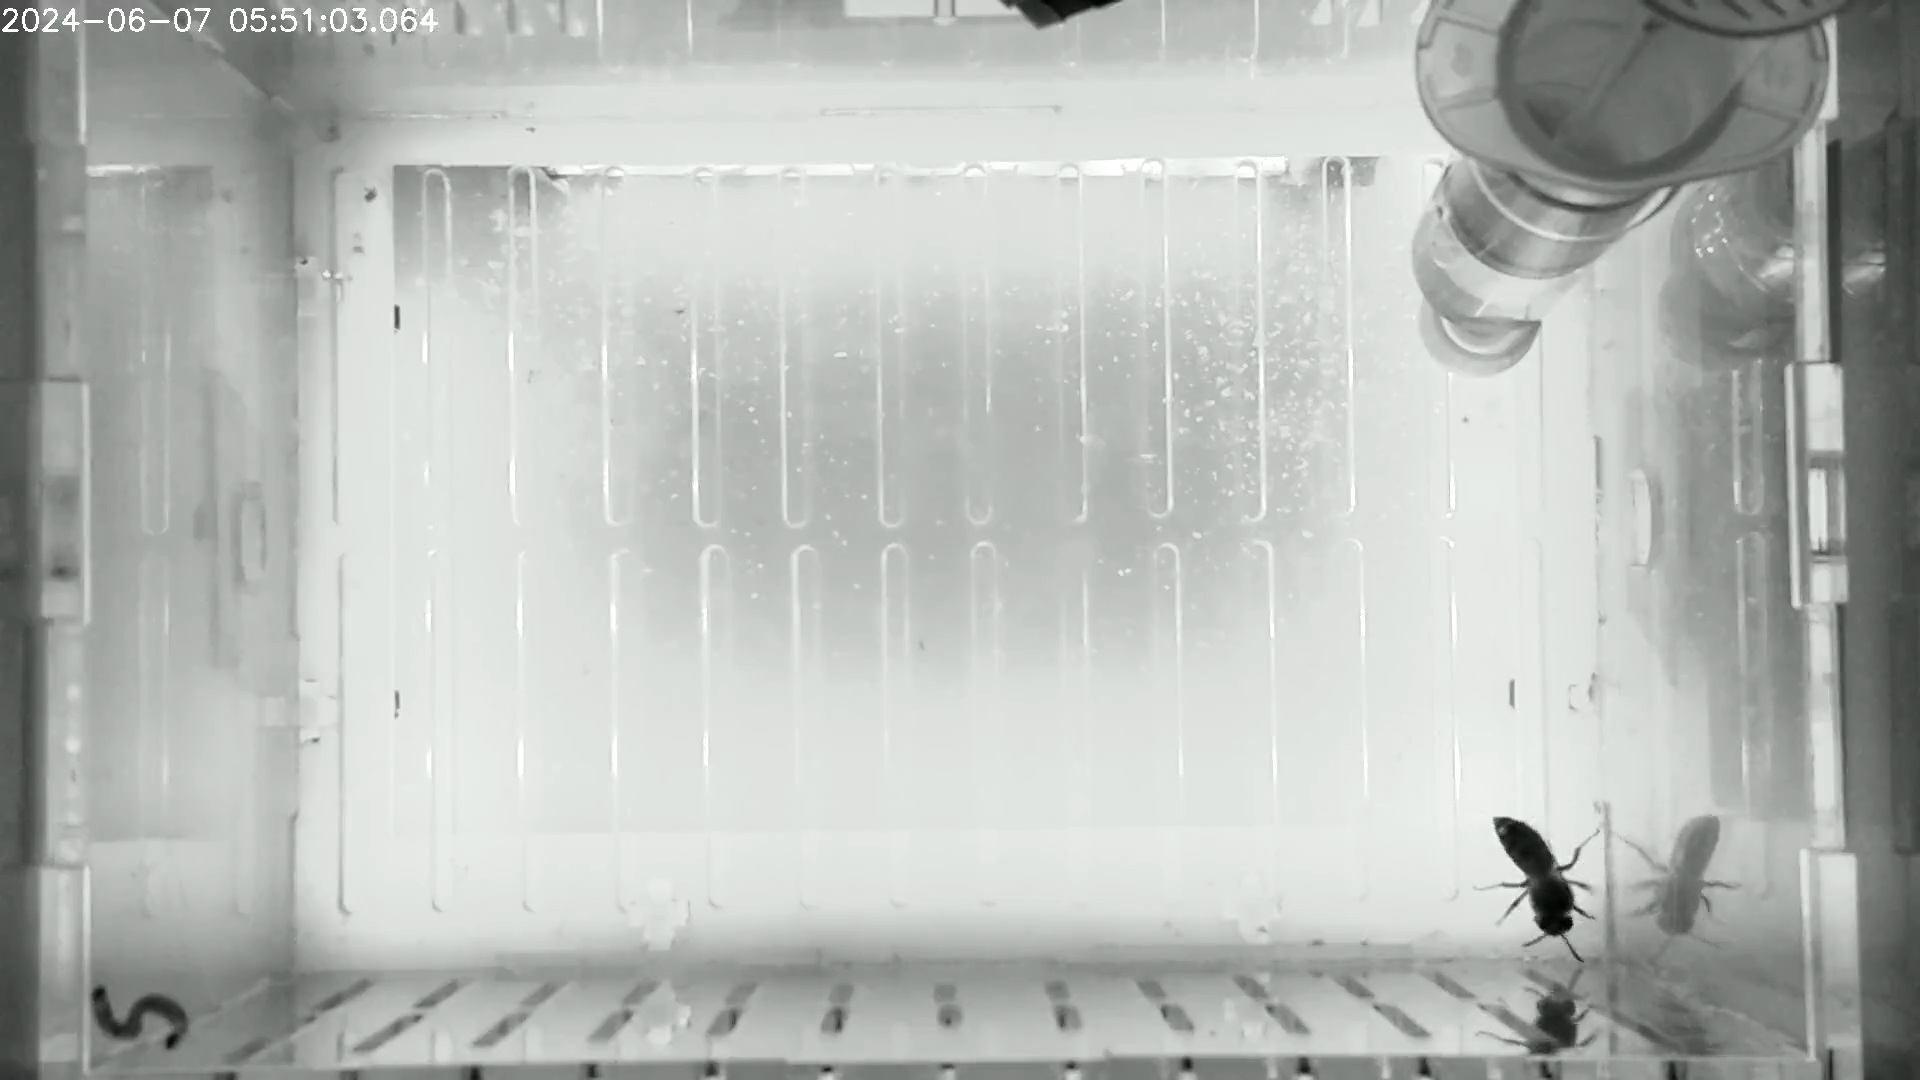bee: (1469, 807, 1609, 968)
feeder: (1400, 148, 1622, 335)
